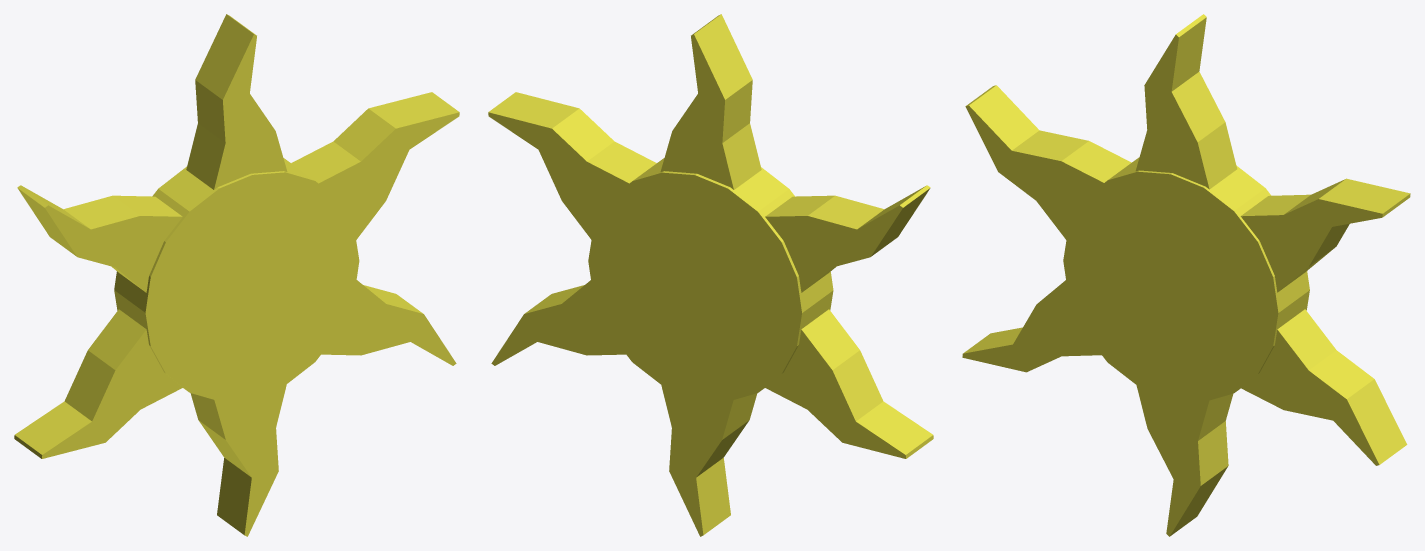
The model's file is sun_symbol.fbx.
3 views of the same model, side by side, from view 1: azimuth 30°, elevation 25°; view 2: azimuth 150°, elevation 25°; view 3: azimuth 330°, elevation 25° (orthographic).
Parts seen in each view (by area): view 1: sun; view 2: sun; view 3: sun.
Boxes of the visible parts, x1,y1,x2,y2 form: sun: (14, 14, 459, 536); sun: (488, 14, 933, 536); sun: (962, 14, 1410, 536).
Bounding box in the file's own units: 813 × 931 × 106.
